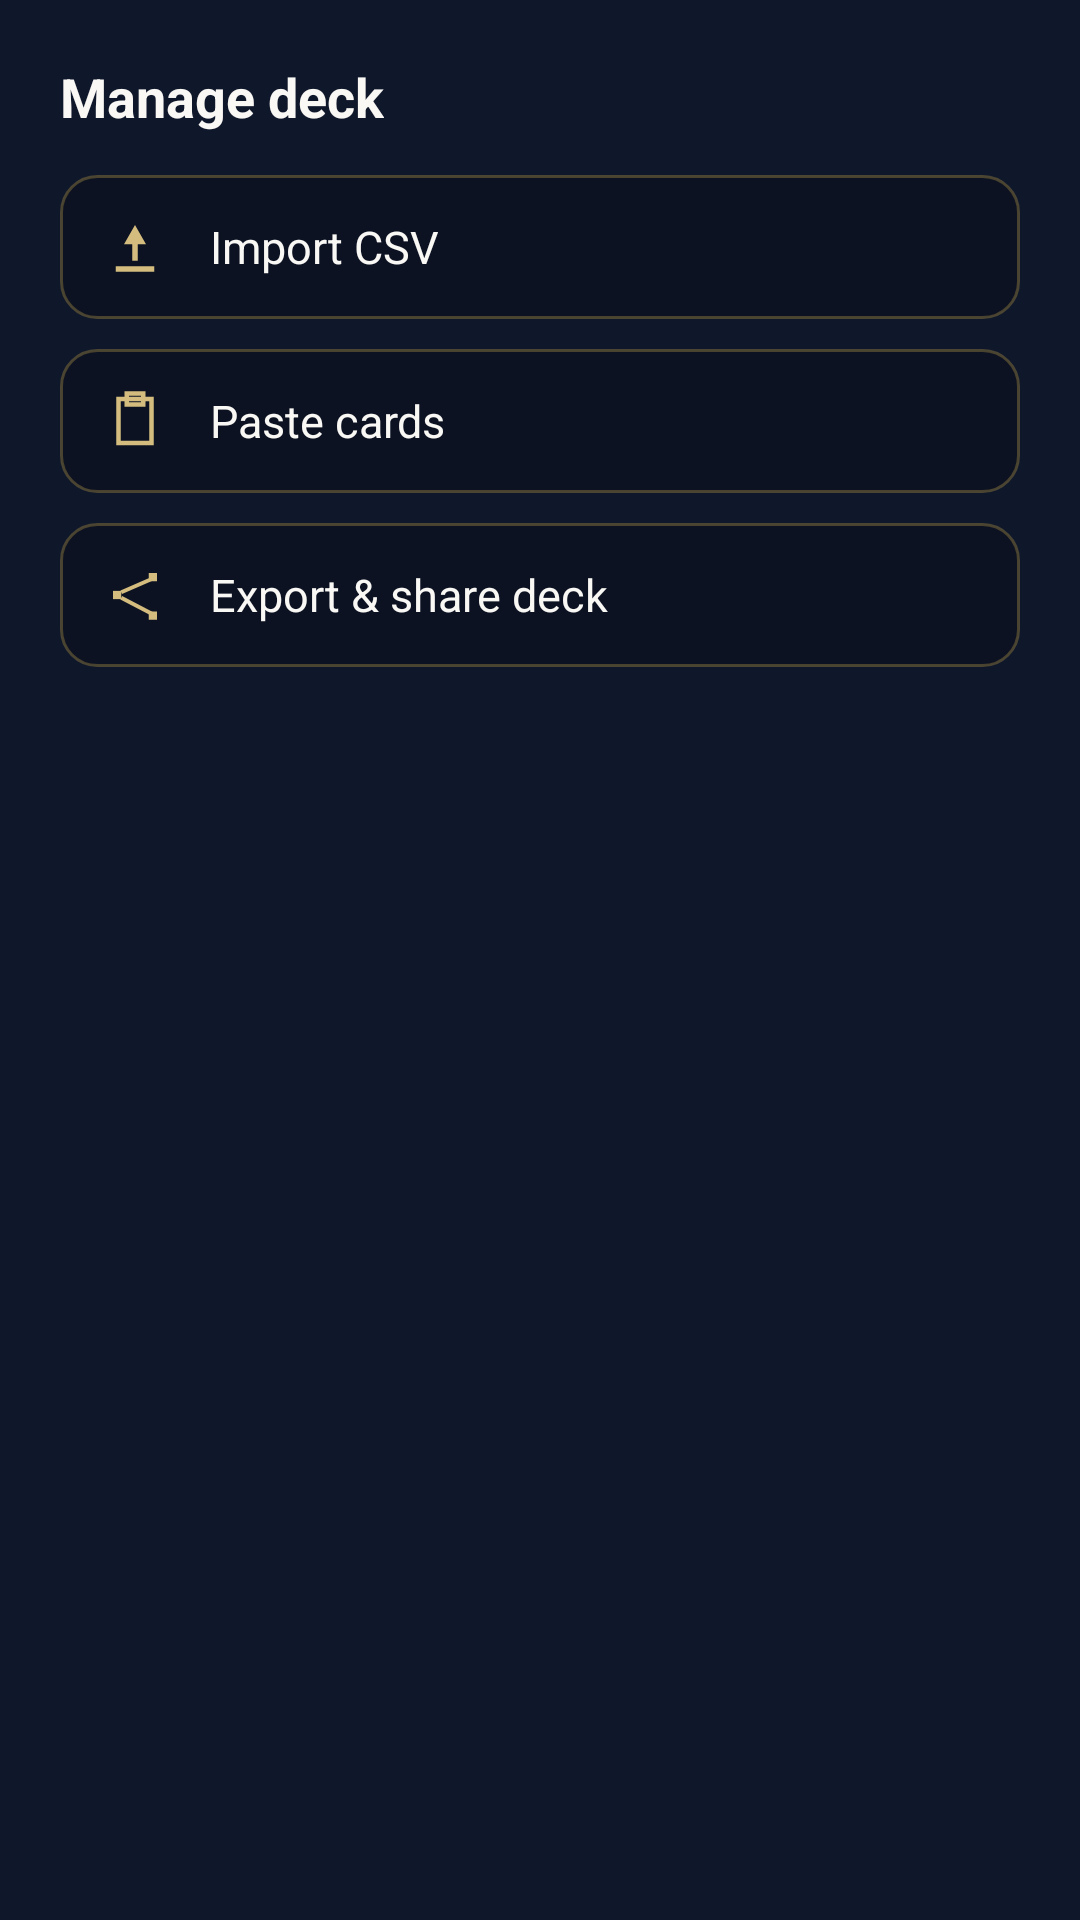

Point at icon controls on the screen. Image size 1080*1920, points as [x,y].
content paste: [135,418]
upload file: [135,248]
